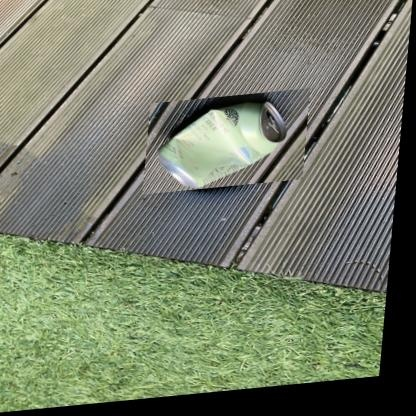trash: (160, 101, 285, 188)
